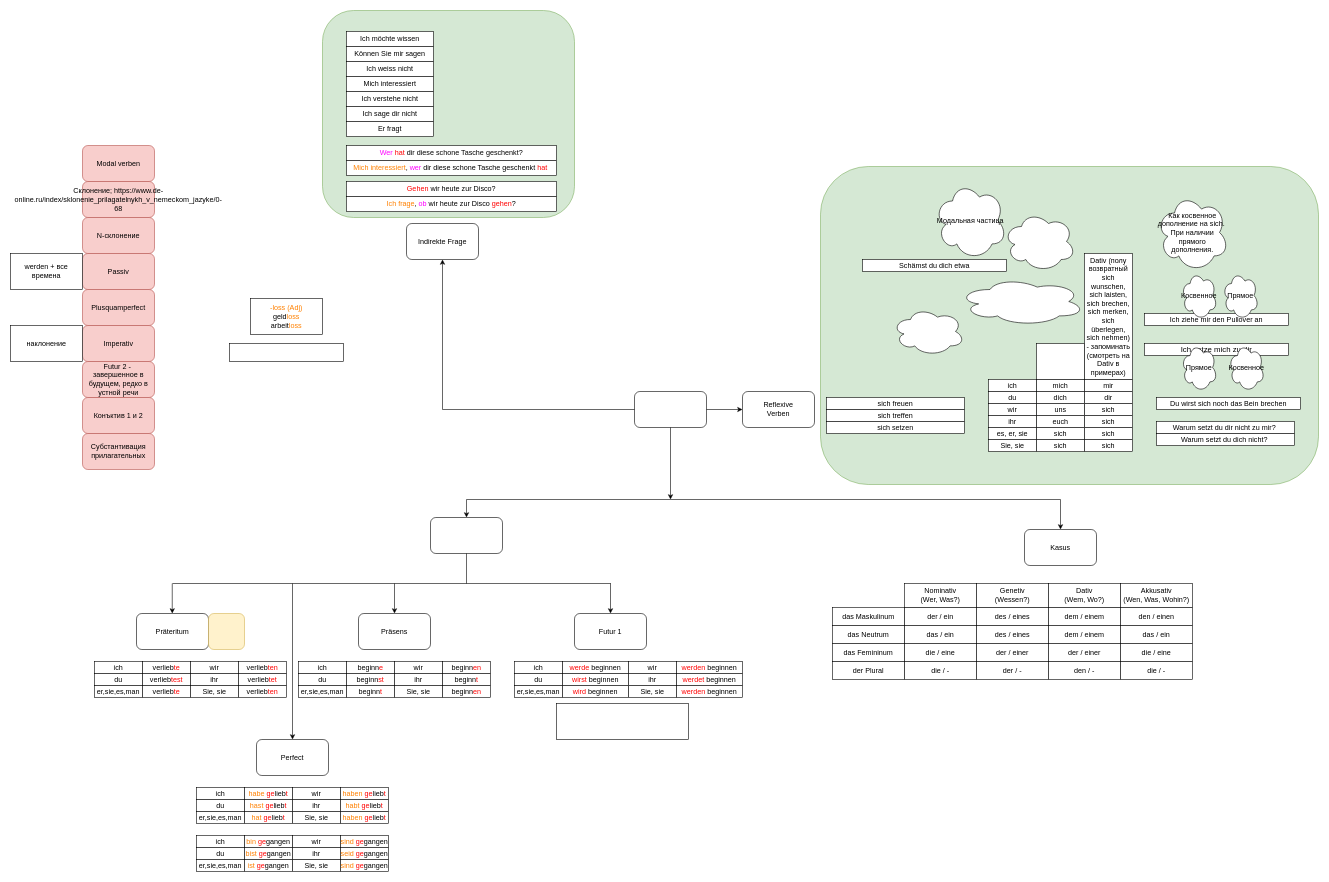
Some shapes in this 1329 by 882 pixel diagram are drawn without their labels. Here are the shapes that lost their labels. From the top down, the box of each, then its label:
(1003, 211, 1076, 272): Прямое дополнение - Akkusativ
(958, 277, 1084, 326): ich kann mich freuen - согласование
(892, 307, 964, 356): sich bedanken
(229, 343, 344, 362): Der Staubsauger roboter
(1036, 343, 1084, 380): Akkusativ (чисто возвратные)
(634, 391, 706, 428): Deutsch
(430, 517, 502, 554): die Zeitläufe
(208, 613, 244, 650): Nur schriftlich
(556, 703, 688, 740): Планы, обещания, предположения
